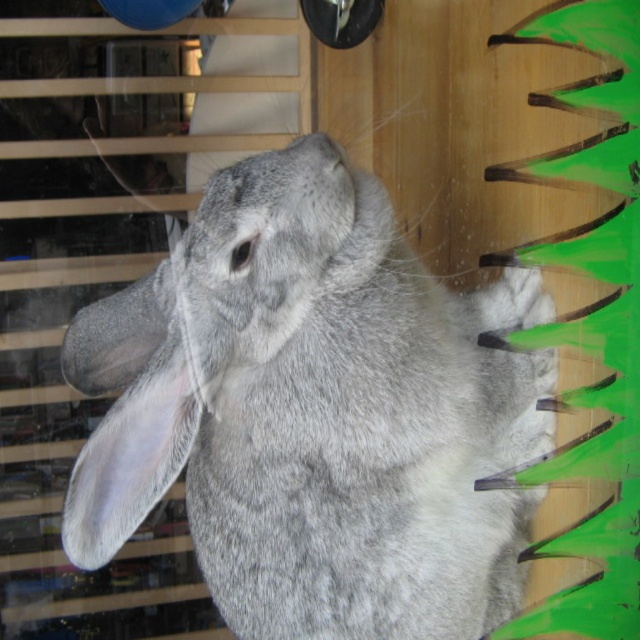Rabbit: (62, 47, 560, 639)
